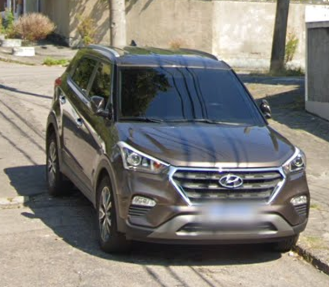car: (44, 45, 310, 260)
